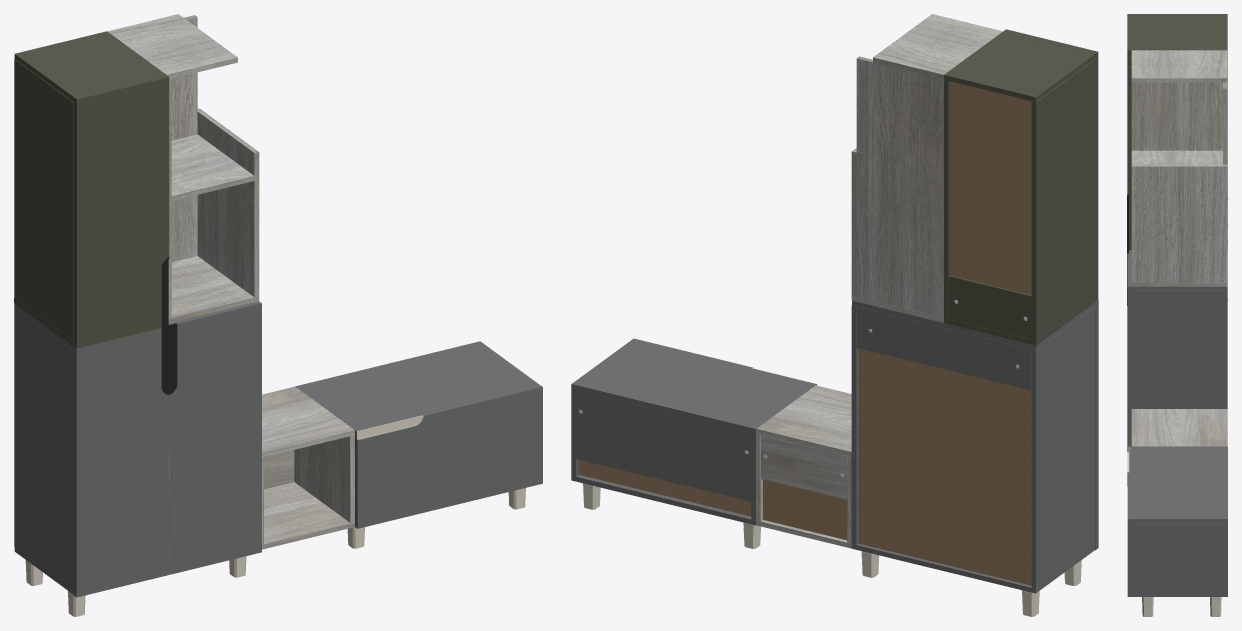
The picture shows the model from 3 angles, left to right: view 1: azimuth 30°, elevation 25°; view 2: azimuth 150°, elevation 25°; view 3: azimuth 270°, elevation 25°; orthographic projection. The views are drawn at different scales.
Visible parts, largest first — view 1: group_0.467, Cube.003, Cube.007, group_0.152, group_0.145, group_0.147, SketchUp.009, Plane; view 2: group_0.144, Cube.003, group_0.467, Cube.007, group_0.147, group_0.151, group_0.145, Plane.001, group_0.149, group_0.015; view 3: Cube.007, group_0.147, group_0.467, Cube.003, group_0.145, group_0.152, group_0.148, SketchUp.009.
Boxes of the visible parts, x1=… form: group_0.467: x1=14, y1=301, x2=261, y2=597; Cube.003: x1=14, y1=31, x2=169, y2=348; Cube.007: x1=107, y1=14, x2=259, y2=323; group_0.152: x1=355, y1=385, x2=542, y2=528; group_0.145: x1=262, y1=386, x2=354, y2=549; group_0.147: x1=295, y1=341, x2=539, y2=429; SketchUp.009: x1=161, y1=257, x2=177, y2=394; Plane: x1=264, y1=450, x2=294, y2=489; group_0.144: x1=858, y1=348, x2=1031, y2=585; Cube.003: x1=944, y1=29, x2=1098, y2=345; group_0.467: x1=851, y1=300, x2=1098, y2=593; Cube.007: x1=851, y1=14, x2=1002, y2=322; group_0.147: x1=571, y1=340, x2=814, y2=525; group_0.151: x1=950, y1=81, x2=1031, y2=295; group_0.145: x1=756, y1=385, x2=851, y2=548; Plane.001: x1=763, y1=474, x2=846, y2=540; group_0.149: x1=579, y1=460, x2=751, y2=516; group_0.015: x1=1022, y1=560, x2=1081, y2=616; Cube.007: x1=1131, y1=50, x2=1227, y2=286; group_0.147: x1=1132, y1=446, x2=1227, y2=596; group_0.467: x1=1127, y1=250, x2=1227, y2=486; Cube.003: x1=1127, y1=14, x2=1227, y2=250; group_0.145: x1=1131, y1=409, x2=1227, y2=446; group_0.152: x1=1127, y1=446, x2=1131, y2=596; group_0.148: x1=1142, y1=597, x2=1221, y2=616; SketchUp.009: x1=1127, y1=194, x2=1128, y2=305.
Size of the model in its own units: 1.76 by 1.9 by 0.4118.
Materials: 16 (6 with a texture image).
